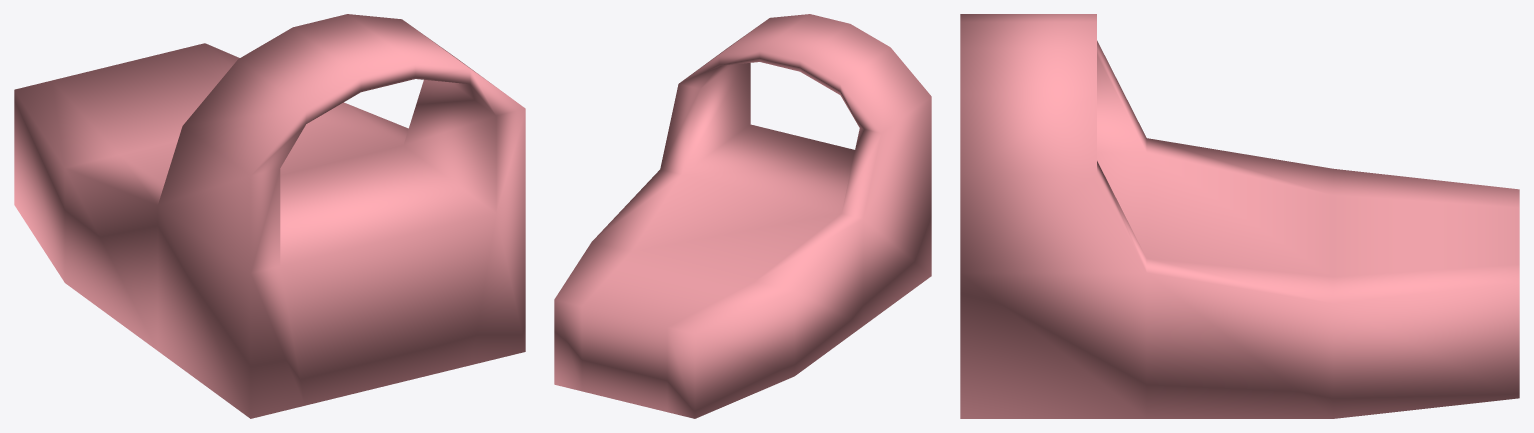
Rendered from sgSight.glb.
The picture shows the model from 3 angles, left to right: view 1: azimuth 30°, elevation 25°; view 2: azimuth 150°, elevation 25°; view 3: azimuth 270°, elevation 25°; orthographic projection. The views are drawn at different scales.
Visible parts, largest first — view 1: shotGunSight; view 2: shotGunSight; view 3: shotGunSight.
Boxes of the visible parts, bbox=[...] form: shotGunSight: bbox=[14, 14, 525, 418]; shotGunSight: bbox=[554, 14, 931, 418]; shotGunSight: bbox=[960, 14, 1519, 418].
Bounding box in the file's own units: 0.042 × 0.046 × 0.0737.
Materials: 1 (1 with a texture image).
